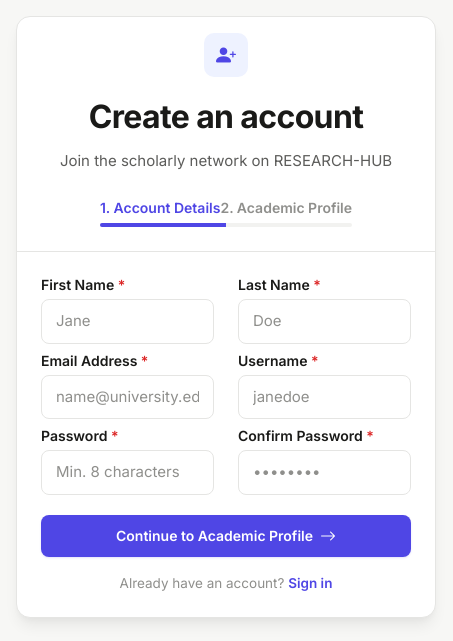
it: Register Component › advances to step 2 when step 1 inputs are valid
Type "Alice" into the field named "firstName". click: (128, 322)
box: [41,299,214,344]
Type "Smith" into the field named "lastName". click: (324, 322)
box: [238,299,411,344]
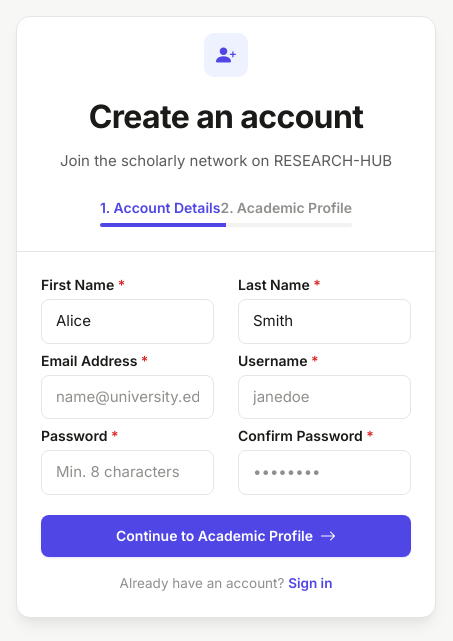
Type "alice@uni.edu" into the field named "email". click: (128, 397)
box: [41,375,214,419]
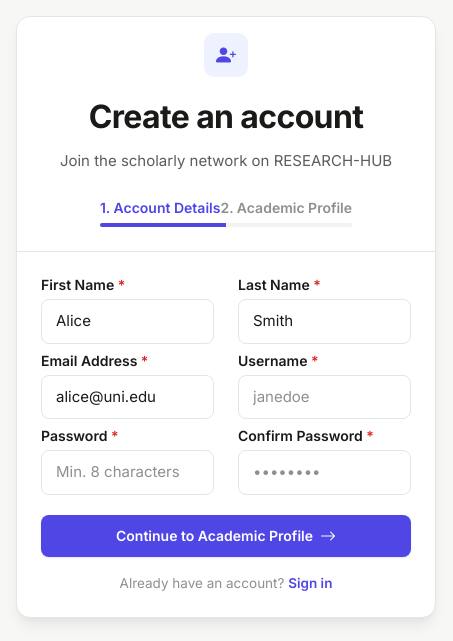
Type "alice.smith" into the field named "username". click: (324, 397)
box: [238,375,411,419]
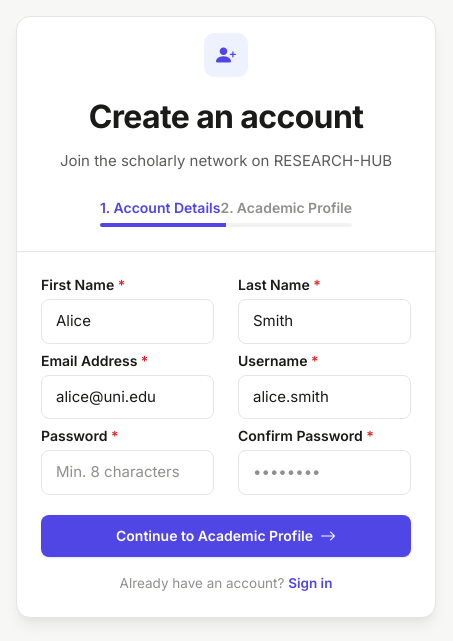
Type "Password123!" into the password field named "password". click: (128, 472)
box: [41,450,214,495]
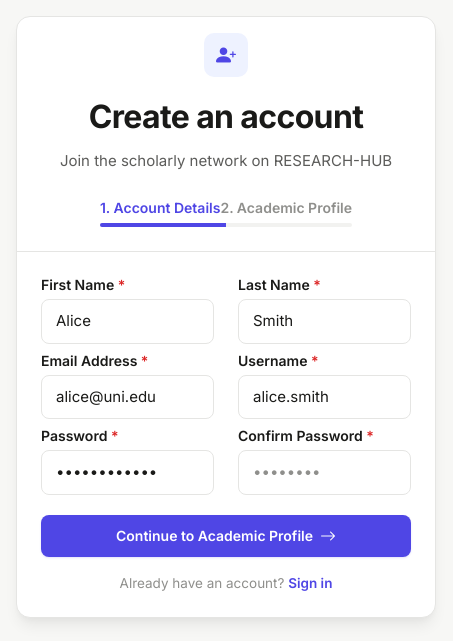
Type "Password123!" into the password field named "confirmPassword". click: (324, 472)
box: [238,450,411,495]
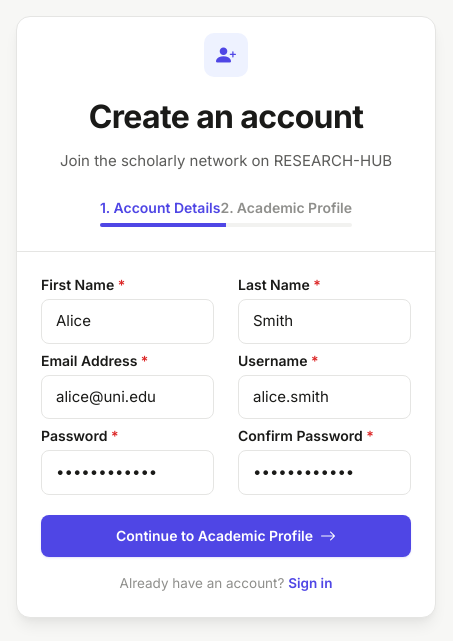
Click the button "Continue to Academic Profile". click: (226, 536)
box: [41,515,411,557]
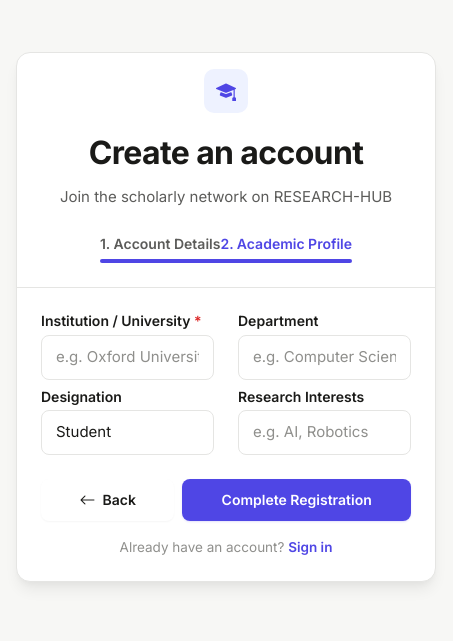
Expected: the field named "firstName" is shown, [41,335,214,380]
Expected: the dropdown named "designation" is shown, [41,410,214,455]
Expected: the button "Complete Registration" is shown, [182,479,411,521]
